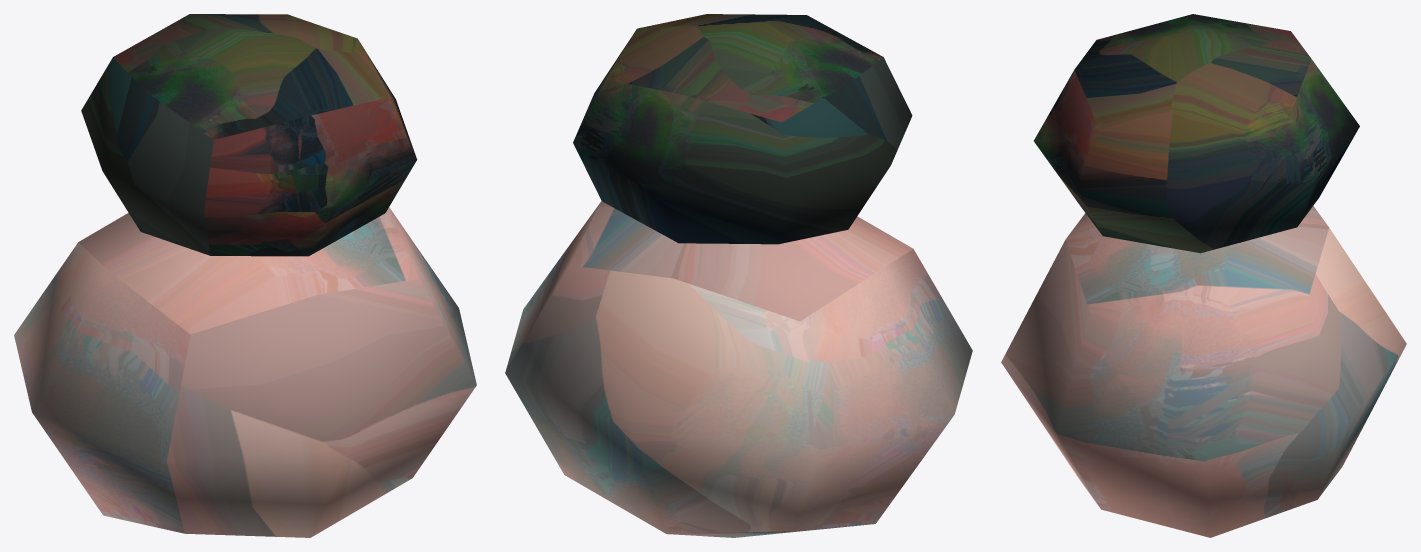
Rendered from mushroom_VAR3_2.fbx.
3 renders of one model, left to right at view 1: azimuth 30°, elevation 25°; view 2: azimuth 150°, elevation 25°; view 3: azimuth 270°, elevation 25°, orthographic. The views are drawn at different scales.
Parts seen in each view (by area): view 1: Cube.002, Cube.004; view 2: Cube.002, Cube.004; view 3: Cube.002, Cube.004.
Boxes of the visible parts, x1=… form: Cube.002: x1=14, y1=207, x2=476, y2=537; Cube.004: x1=81, y1=14, x2=417, y2=256; Cube.002: x1=505, y1=201, x2=972, y2=537; Cube.004: x1=573, y1=14, x2=912, y2=244; Cube.002: x1=1001, y1=206, x2=1406, y2=537; Cube.004: x1=1034, y1=14, x2=1359, y2=253.
Size of the model in its own units: 569 by 634 by 486.
